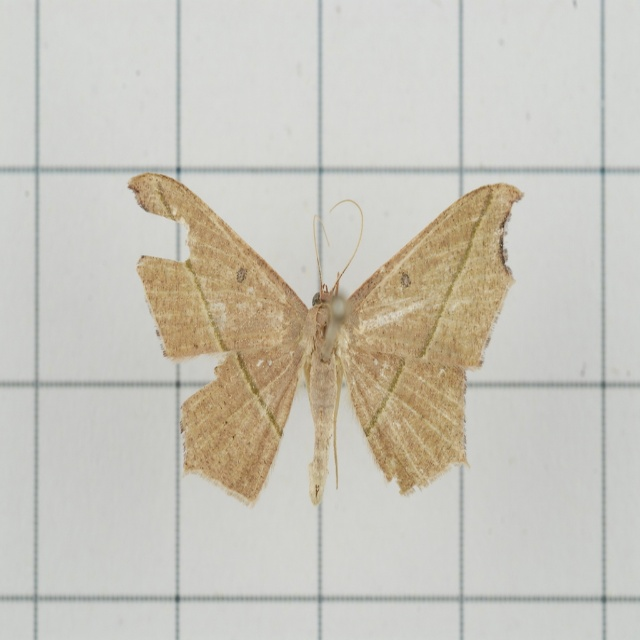Butterfly: (127, 173, 525, 513)
